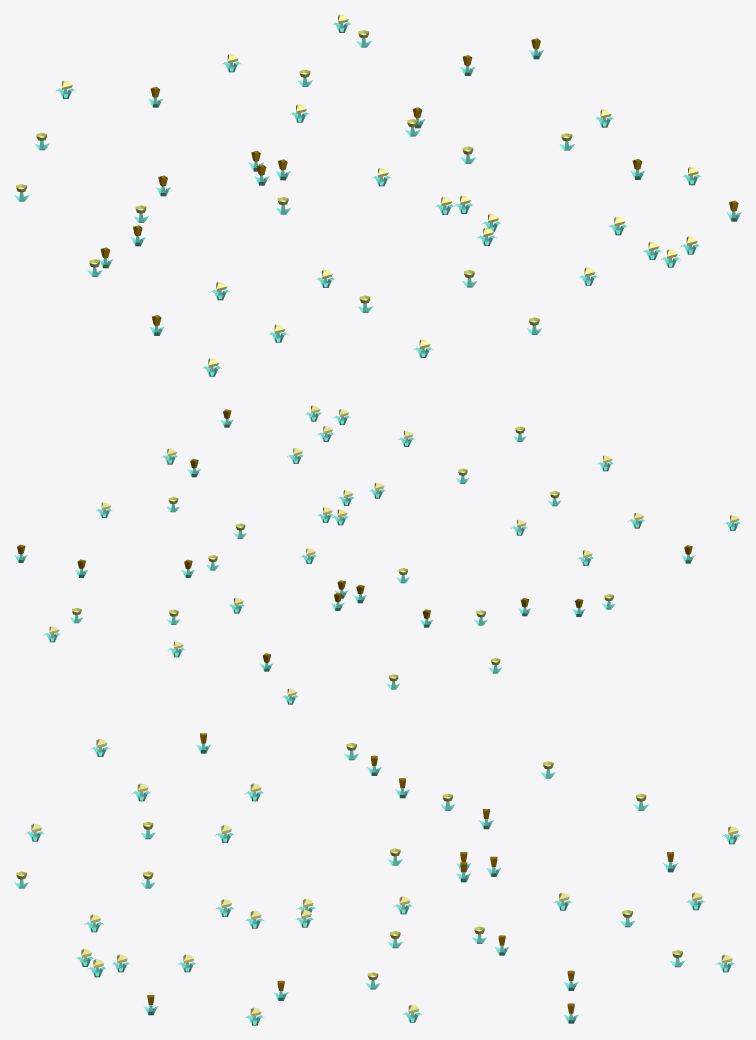
The model's file is yerrow1.fbx.
The picture shows the model from 3 angles, top to bottom: view 1: azimuth 30°, elevation 25°; view 2: azimuth 150°, elevation 25°; view 3: azimuth 270°, elevation 25°; orthographic projection. The views are drawn at different scales.
Parts seen in each view (by area): view 1: flower_purpleB25; view 2: flower_purpleB25; view 3: flower_purpleB25.
Part boxes in pixels (x1,y1,x2,y2): flower_purpleB25: [14, 14, 741, 376]; flower_purpleB25: [14, 405, 740, 704]; flower_purpleB25: [14, 733, 740, 1025].
Size of the model in its own units: 40.77 by 1.75 by 45.49.
